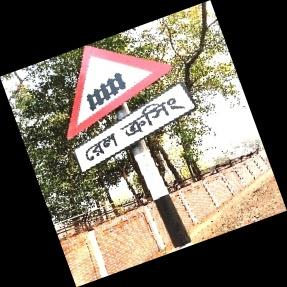Rail-crossing: (65, 46, 194, 178)
